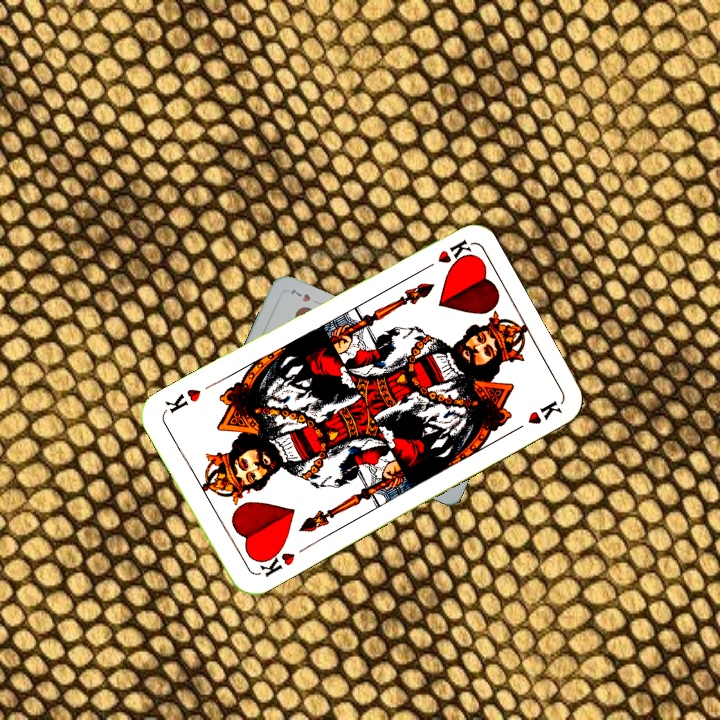HK: (416, 235, 473, 275), (252, 542, 298, 580)
